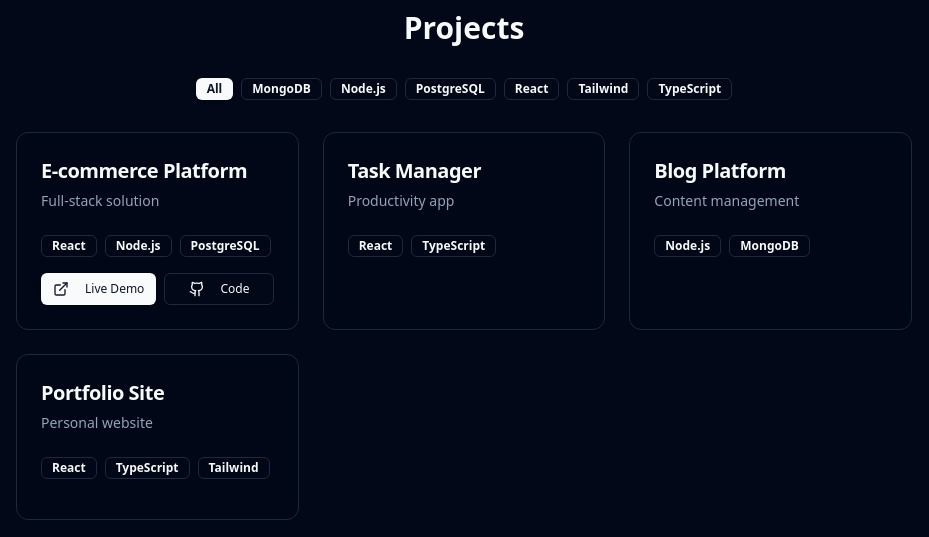
Test: Projects User Flow › resets filter when clicking All
Note: Filter by Node.js - use getAllByText and select the filter button (first one)
Click the text "Node.js" in the row of "All" at (363,89), box [330,78,397,100]
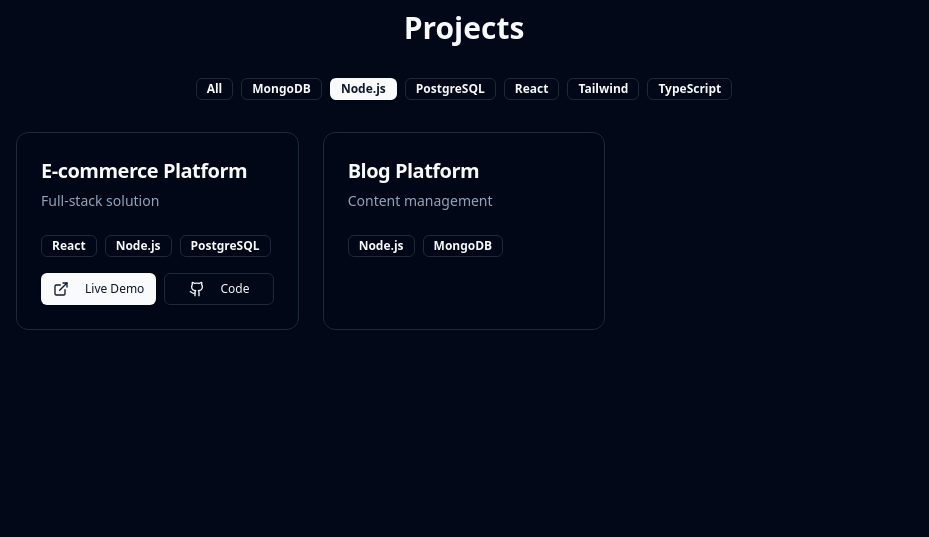
Expected: the text "E-commerce Platform" is shown, [41,157,247,185]
Result: the text "Task Manager" is gone
Note: Click All to reset
Click the text "All" at (214,89), box [196,78,233,100]
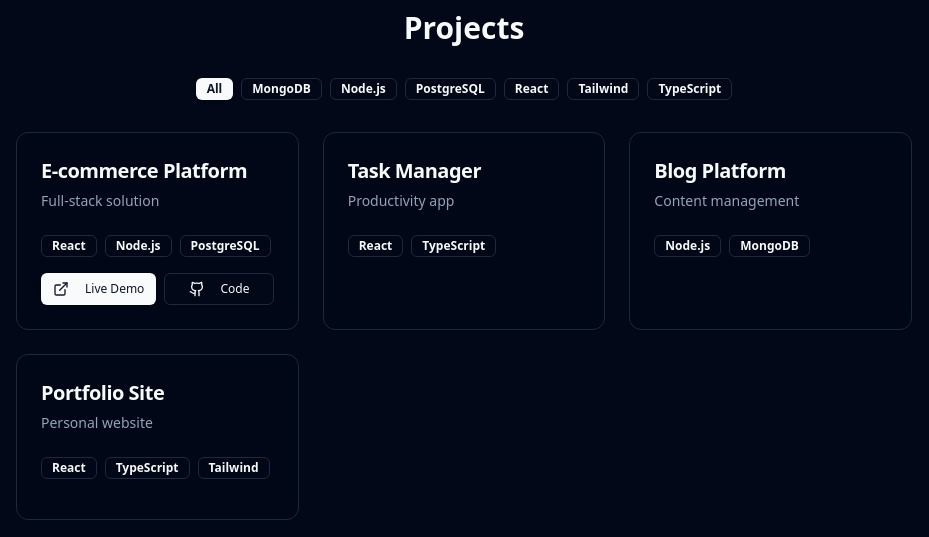
Expected: the text "E-commerce Platform" is shown, [41,157,247,185]
Result: the text "Task Manager" is shown at [348,157,481,185]
